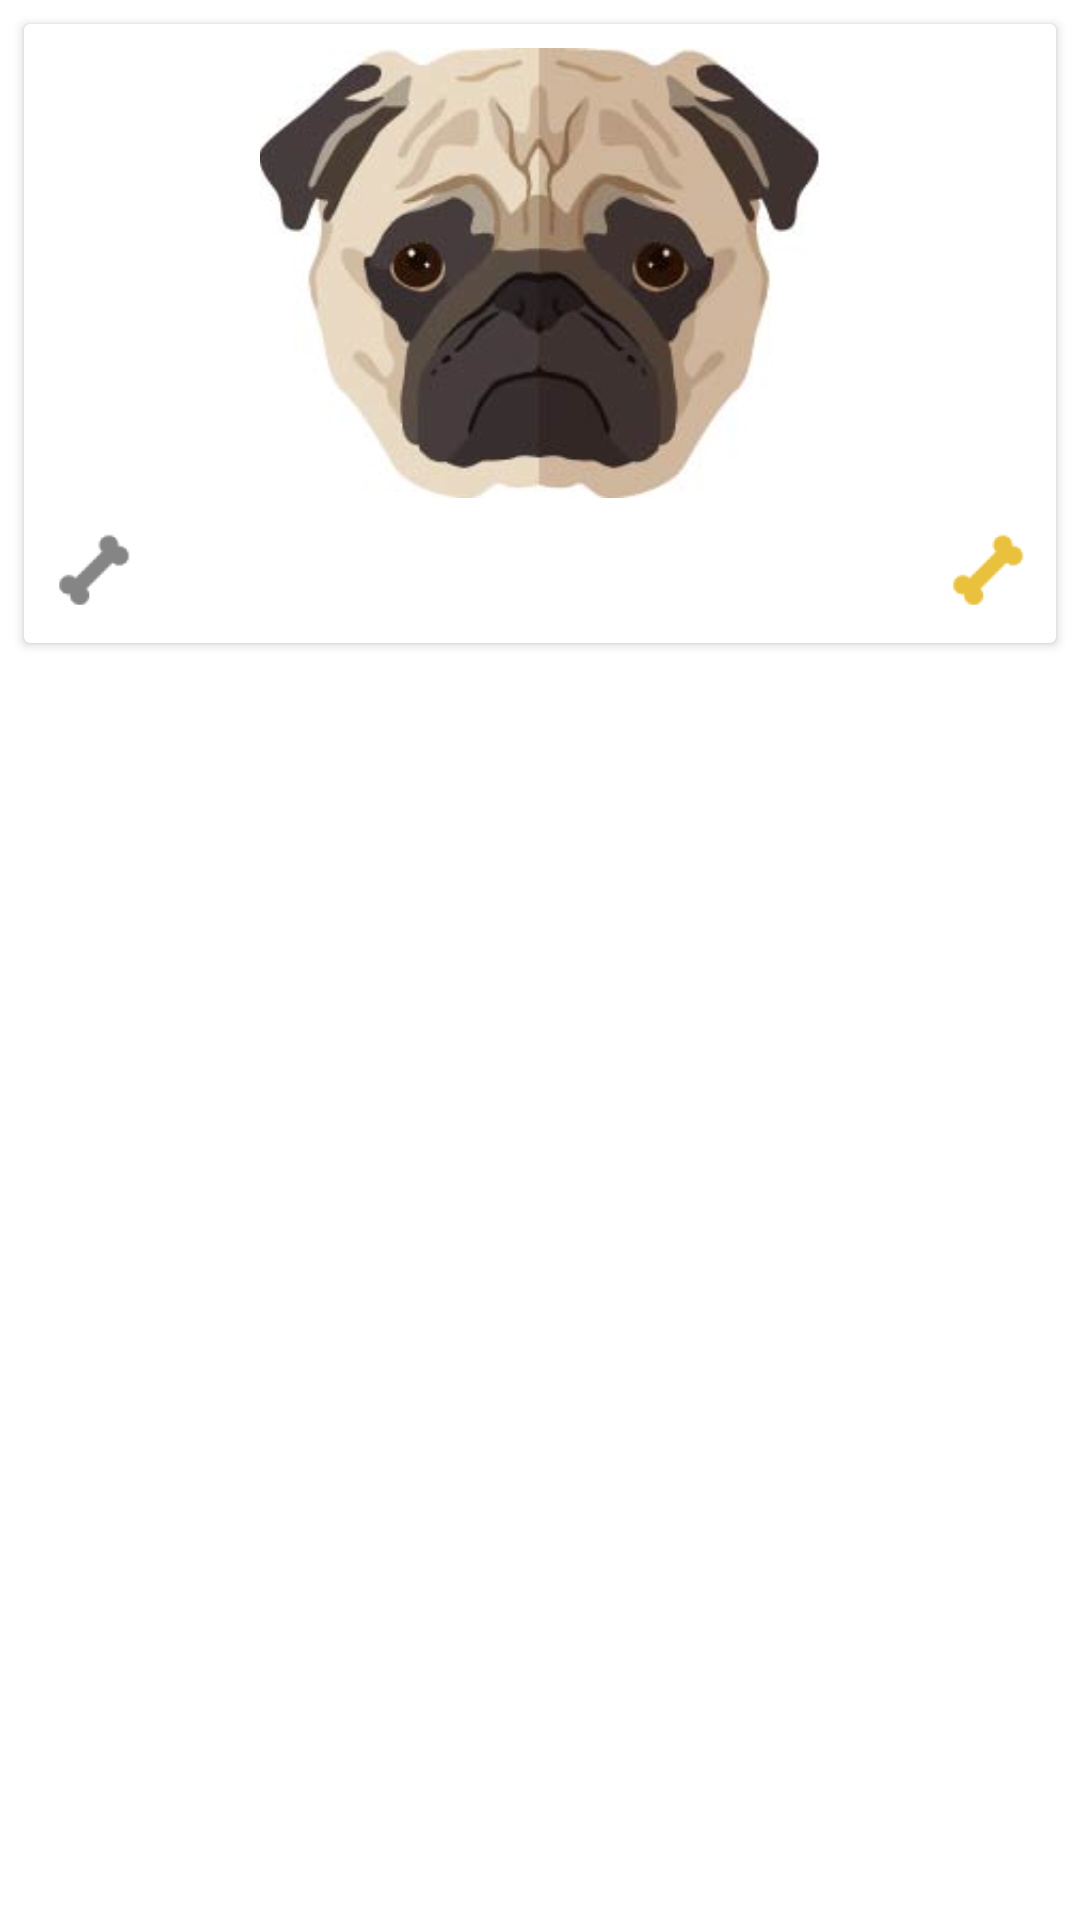

Screen size 1080 × 1920. Icon name, then its center in pixels as (x=x, y=y):
bone: (x=988, y=569), (x=94, y=570)
